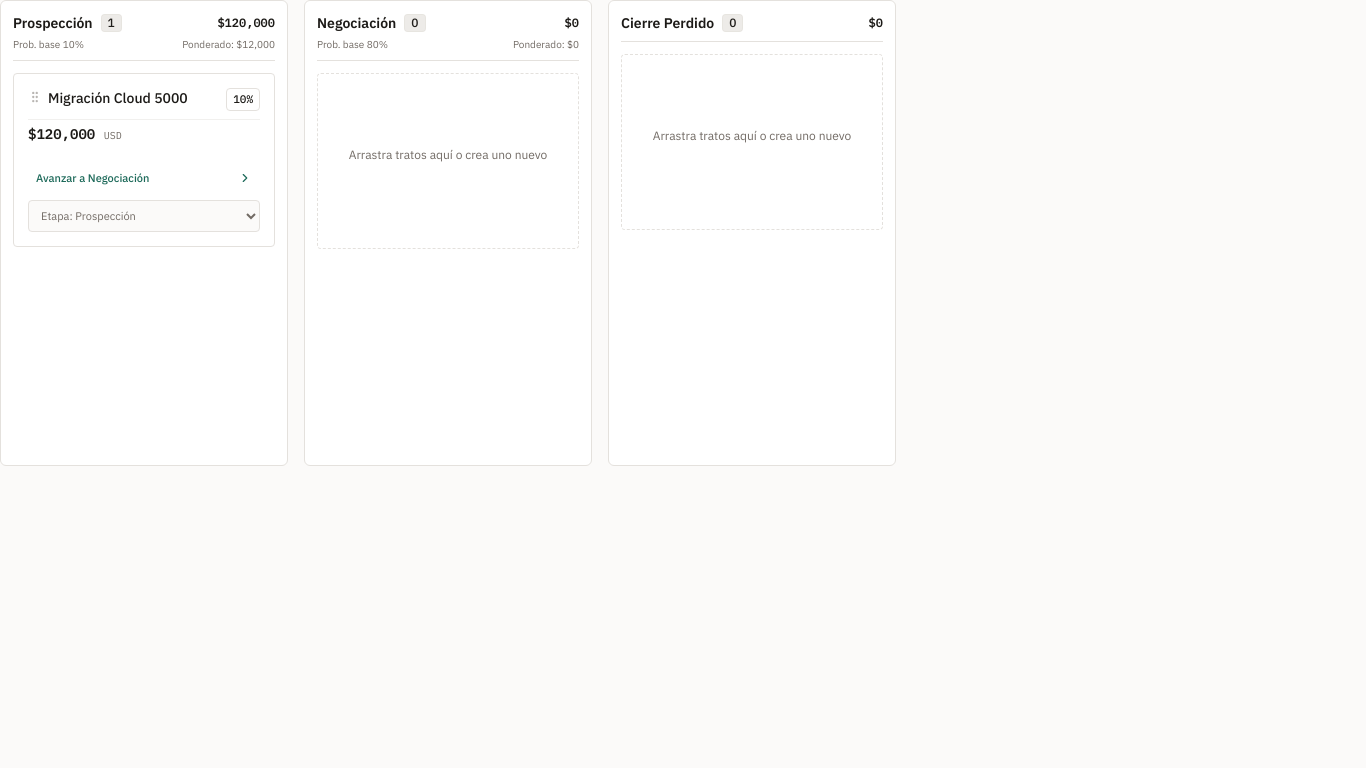
Scenario: DealKanbanBoard › rolls back optimistic transition and displays alert when API fails
What coordinates should you click on to do the following:
click the button with aria-label "Avanzar oportunidad Migración Cloud 5000 a Negociación"
I would click on:
 (144, 178)
Its box is [28,162,260,194].
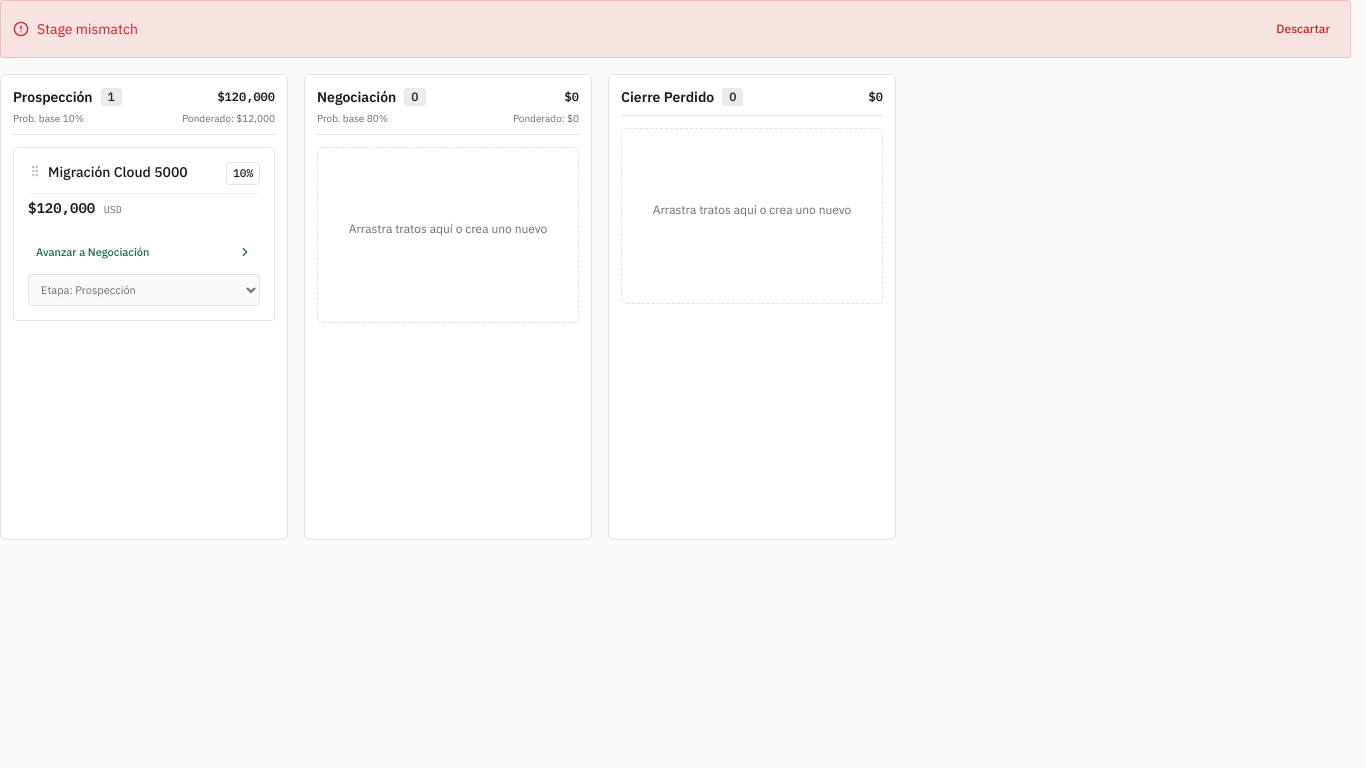
Expected: the dropdown named "Mover Migración Cloud 5000 a etapa" shows "Etapa: Prospección", [28,274,260,306]
Now the message shows "Stage mismatch", box [37,20,138,38]
